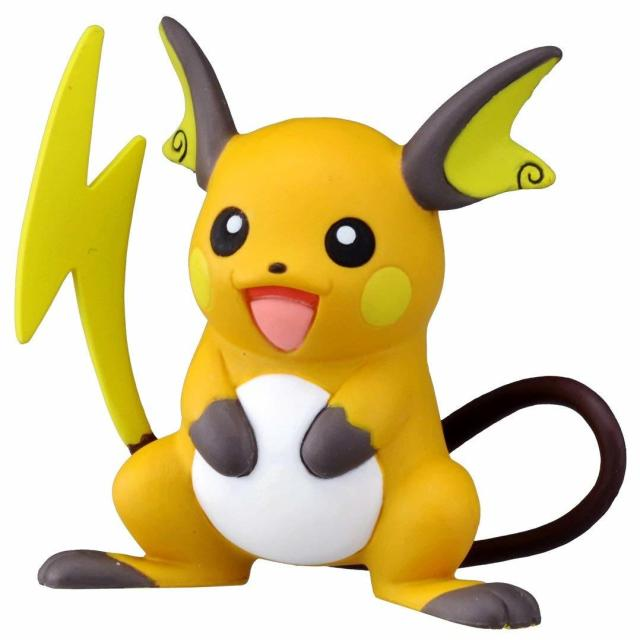Raichu: (108, 53, 500, 588)
